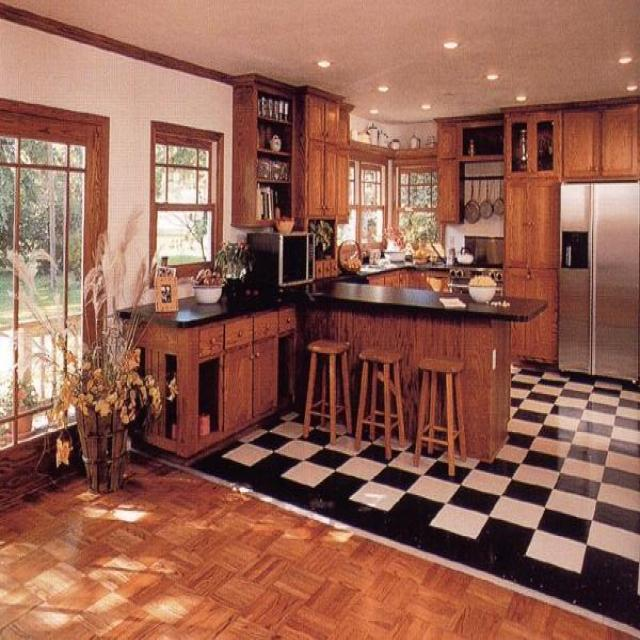cupboard: (229, 72, 298, 230)
pots: (191, 283, 222, 303)
rugs: (142, 360, 639, 637)
television: (245, 231, 315, 287)
white-board: (557, 179, 638, 382)
window: (0, 96, 109, 452)
windows: (148, 119, 223, 272)
